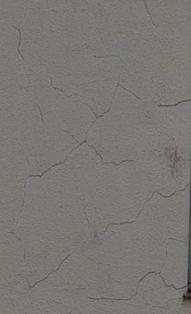fissura: (10, 0, 191, 302)
